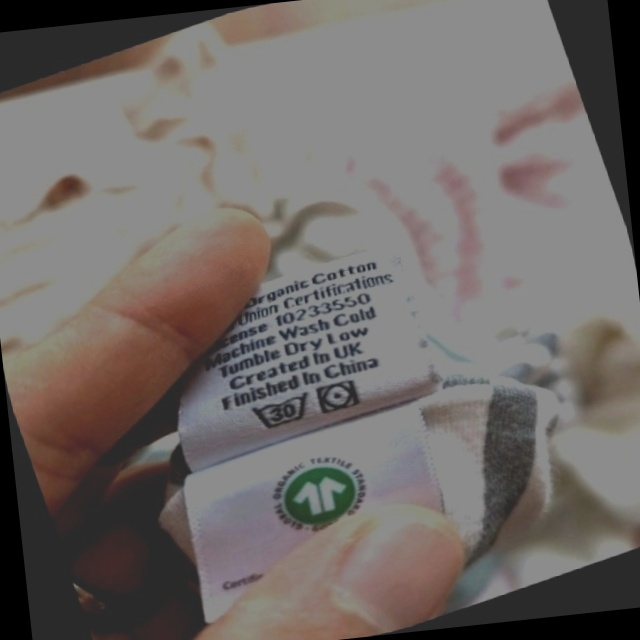30C: (242, 383, 320, 440)
tumble_dry_low: (310, 372, 367, 422)
